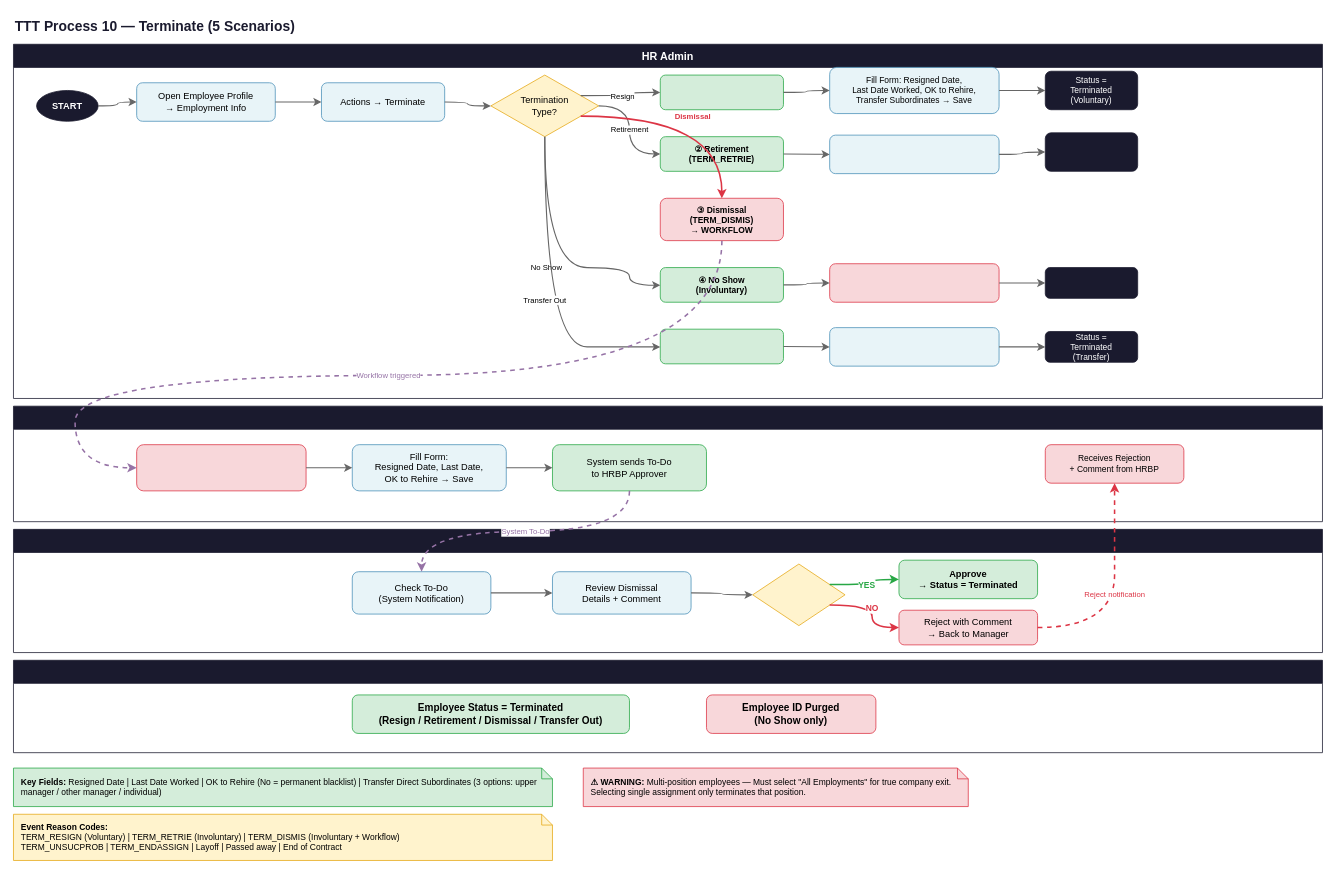
This 1336x874 diagram has some shape labels left out. Here are the shapes that lost their labels. From the top down, the box of each, then its label:
(660, 74, 783, 110): ① Resign (TERM_RESIGN)
(829, 134, 999, 174): Fill Form: same fields Involuntary → Save
(1045, 132, 1138, 171): Status = Terminated (Involuntary)
(829, 263, 999, 302): Purge Employee ID from System
(1045, 267, 1138, 298): Employee ID Purged
(660, 328, 783, 364): ⑤ Transfer Out (Involuntary)
(829, 327, 999, 366): Fill Form + Specify Destination Company → Save
(136, 444, 306, 491): Initiate Dismissal Actions → Terminate Reason = TERM_DISMIS
(13, 405, 1322, 522): Line Manager
(13, 529, 1322, 653): HRBP (Approver)
(752, 563, 845, 626): Approve?
(13, 660, 1322, 753): Employee (Result)
